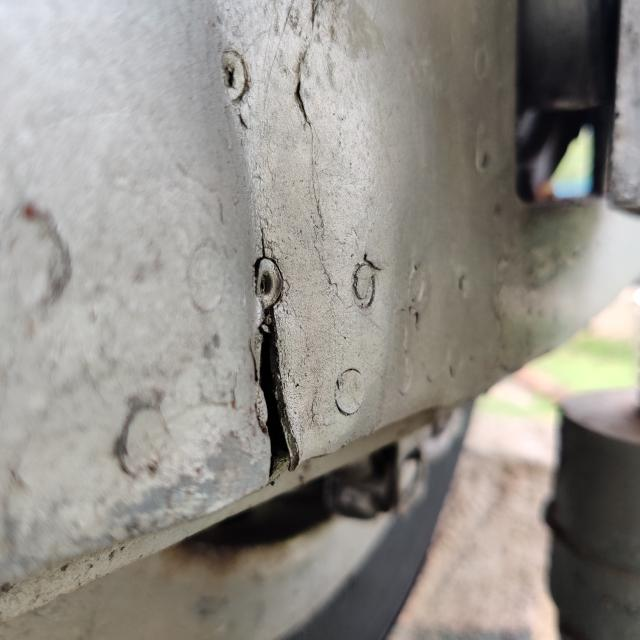crack: (214, 290, 326, 493)
